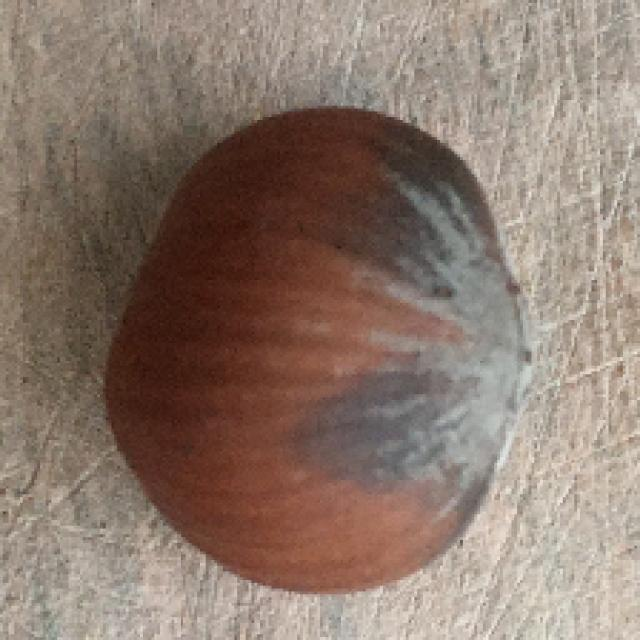DamagedHazelnut: (99, 110, 538, 596)
